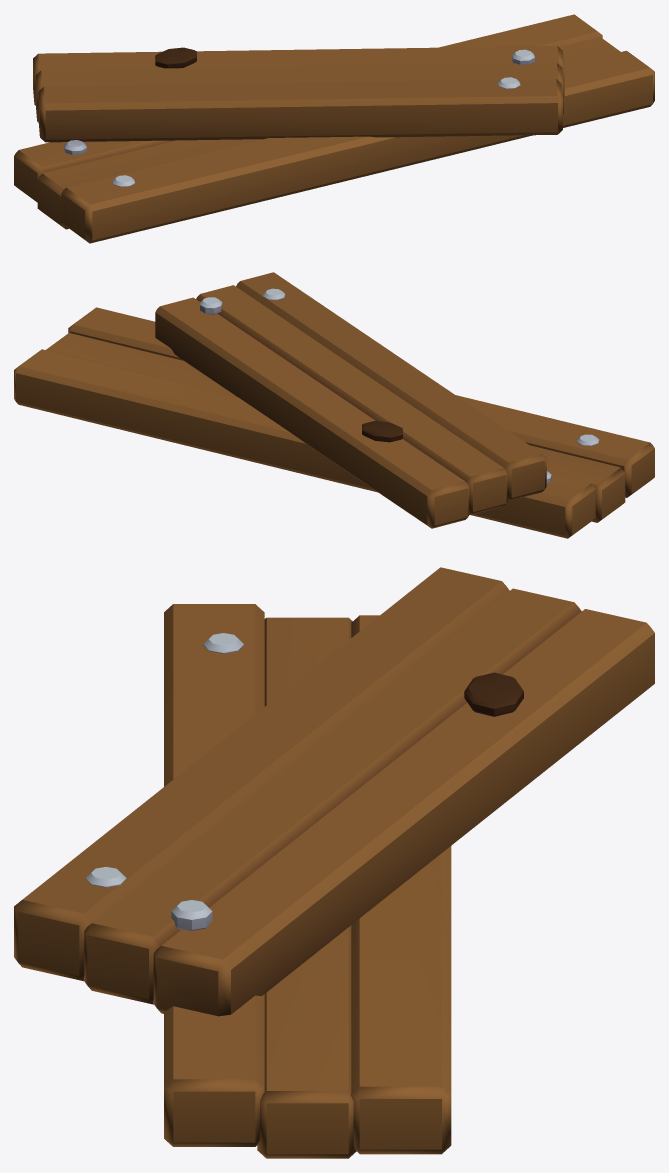
File: plank.glb
3 renders of one model, top to bottom at view 1: azimuth 30°, elevation 25°; view 2: azimuth 150°, elevation 25°; view 3: azimuth 270°, elevation 25°, orthographic. The views are drawn at different scales.
Visible parts, largest first — view 1: plank; view 2: plank; view 3: plank.
Boxes of the visible parts, <box> form: plank: <box>14,14,654,243</box>; plank: <box>14,272,654,538</box>; plank: <box>14,567,654,1158</box>.
Size of the model in its own units: 0.6143 by 0.088 by 0.3435.
